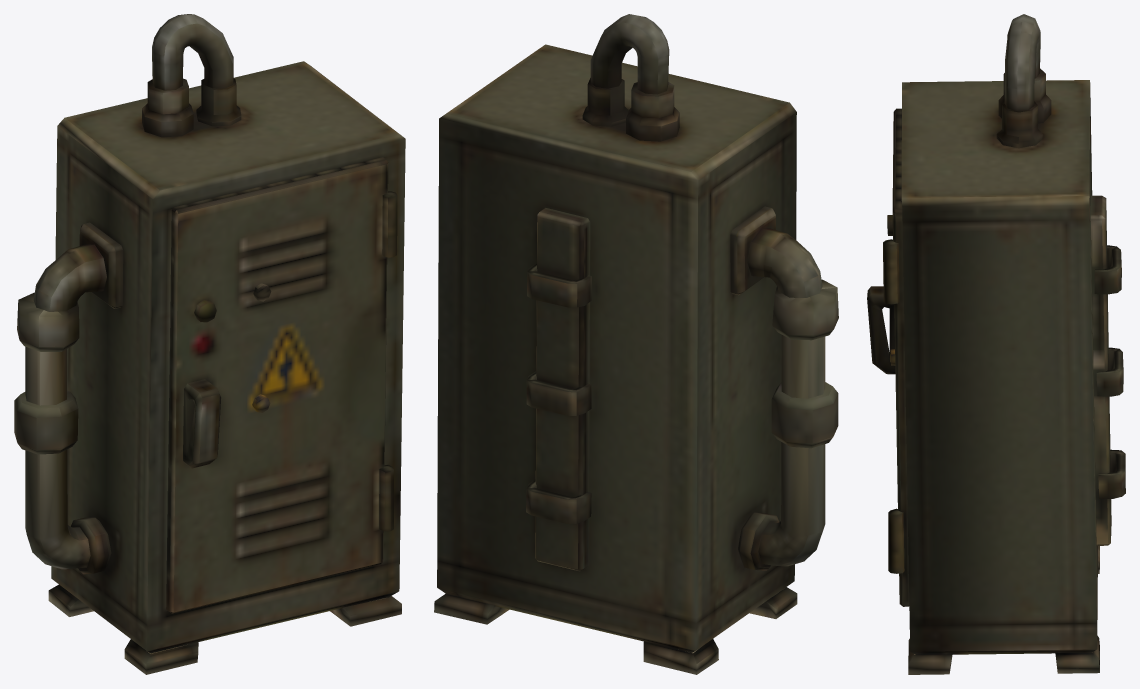
The model's file is safety_equipment_station.fbx.
3 renders of one model, left to right at view 1: azimuth 30°, elevation 25°; view 2: azimuth 150°, elevation 25°; view 3: azimuth 270°, elevation 25°, orthographic. The views are drawn at different scales.
Parts seen in each view (by area): view 1: safety_equipment_station; view 2: safety_equipment_station; view 3: safety_equipment_station.
Part boxes in pixels (box(x1,y1,x2,y2)): safety_equipment_station: box(14, 14, 405, 674); safety_equipment_station: box(434, 14, 838, 674); safety_equipment_station: box(867, 14, 1125, 674).
Size of the model in its own units: 91.98 by 154 by 62.1.
